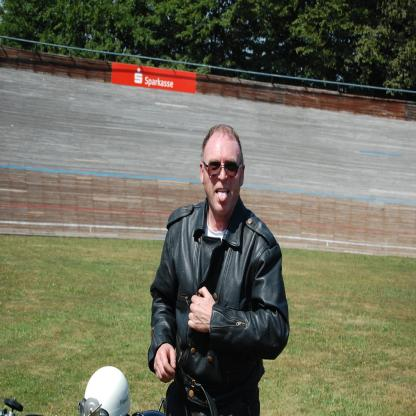Helmet: (82, 365, 134, 416)
